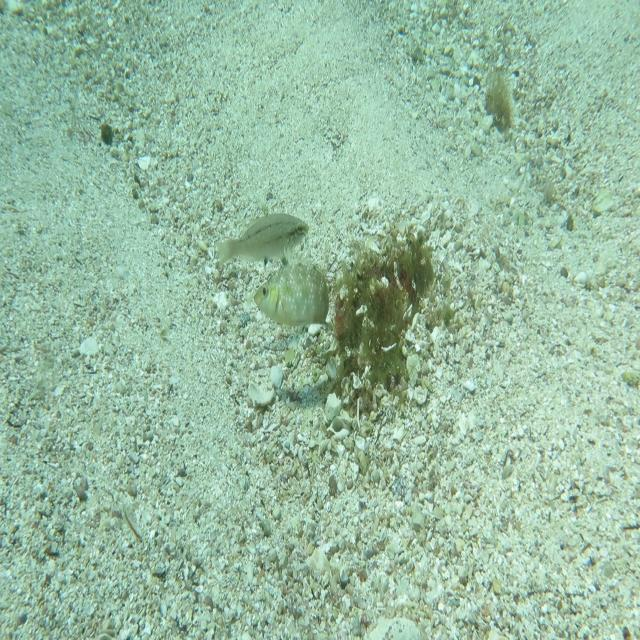DAN_CIRC: (252, 243, 331, 329)
female: (216, 212, 310, 272)
nest: (318, 218, 456, 434)
